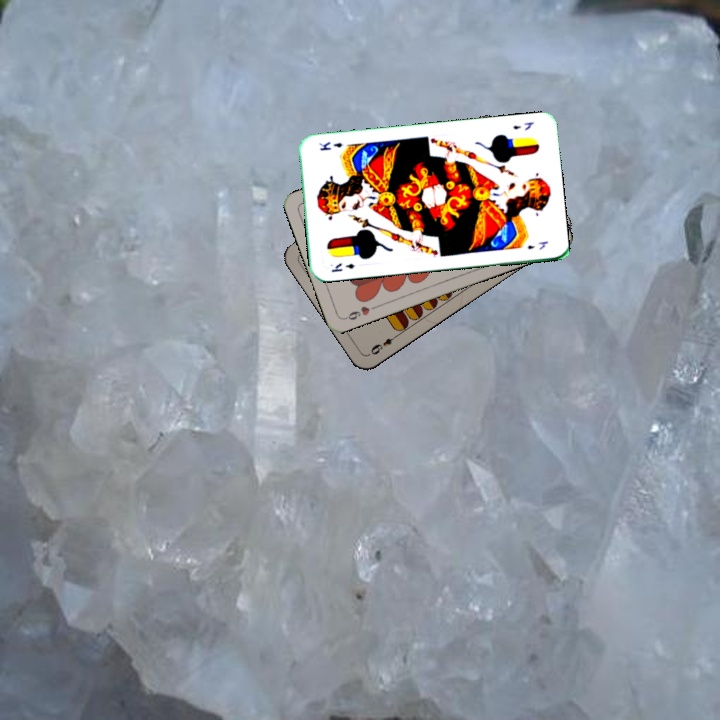E9: (365, 330, 401, 358)
EK: (327, 259, 356, 275), (509, 118, 537, 133)
H9: (340, 302, 380, 323)
